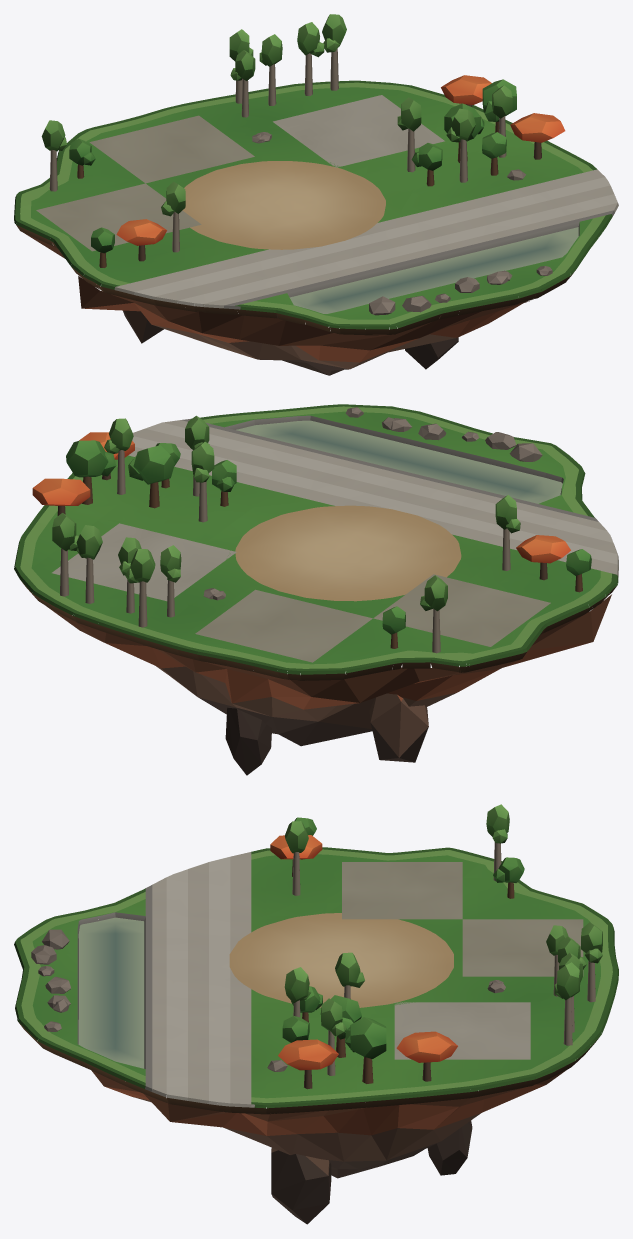
File: title_island_saigon.glb
3 renders of one model, top to bottom at view 1: azimuth 30°, elevation 25°; view 2: azimuth 150°, elevation 25°; view 3: azimuth 270°, elevation 25°, orthographic. The views are drawn at different scales.
Visible parts, largest first — view 1: TitleIslandTerrain, TitleIslandWater; view 2: TitleIslandTerrain, TitleIslandWater; view 3: TitleIslandTerrain, TitleIslandWater.
Part boxes in pixels (x1,y1,x2,y2): TitleIslandTerrain: (14,14,618,375); TitleIslandWater: (289,227,578,313); TitleIslandTerrain: (14,404,618,775); TitleIslandWater: (236,420,562,503); TitleIslandTerrain: (14,804,618,1224); TitleIslandWater: (78,917,144,1068).
Size of the model in its own units: 40.63 by 20 by 40.07.
